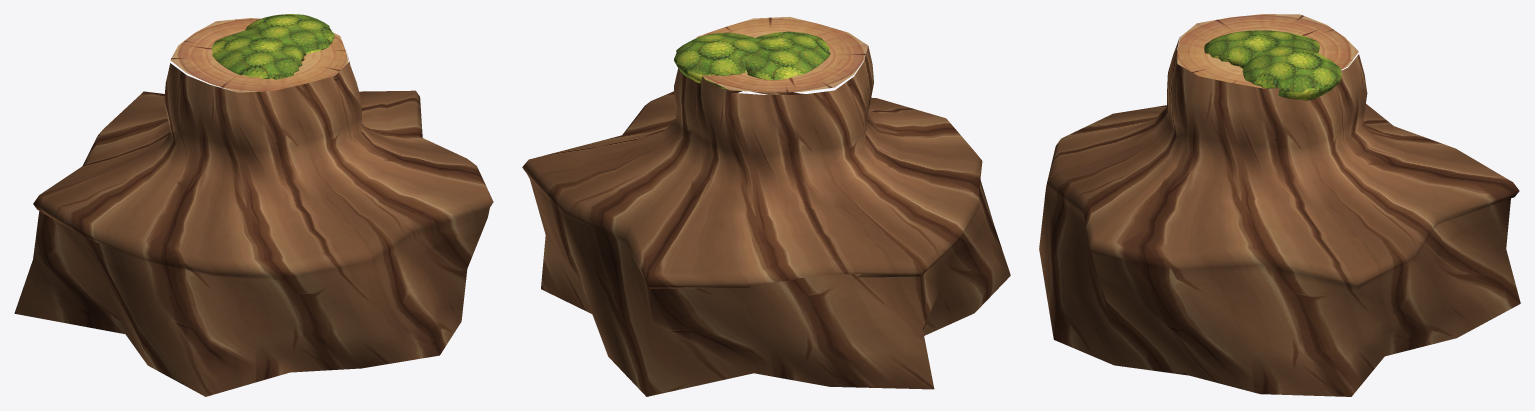
The model's file is mossy_stump1_s31831.gltf.
3 renders of one model, left to right at view 1: azimuth 30°, elevation 25°; view 2: azimuth 150°, elevation 25°; view 3: azimuth 270°, elevation 25°, orthographic. The views are drawn at different scales.
Parts seen in each view (by area): view 1: mossy_stump1_s31831_bark_LOD0, mossy_stump1_s31831_moss_LOD0, mossy_stump1_s31831_cap_LOD0; view 2: mossy_stump1_s31831_bark_LOD0, mossy_stump1_s31831_moss_LOD0, mossy_stump1_s31831_cap_LOD0; view 3: mossy_stump1_s31831_bark_LOD0, mossy_stump1_s31831_moss_LOD0, mossy_stump1_s31831_cap_LOD0.
Part boxes in pixels (x1,y1,x2,y2): mossy_stump1_s31831_bark_LOD0: (14, 54, 493, 396); mossy_stump1_s31831_moss_LOD0: (211, 14, 334, 79); mossy_stump1_s31831_cap_LOD0: (170, 18, 348, 92); mossy_stump1_s31831_bark_LOD0: (522, 46, 1010, 396); mossy_stump1_s31831_moss_LOD0: (674, 31, 830, 89); mossy_stump1_s31831_cap_LOD0: (696, 17, 868, 92); mossy_stump1_s31831_bark_LOD0: (1039, 37, 1520, 396); mossy_stump1_s31831_moss_LOD0: (1204, 30, 1341, 100); mossy_stump1_s31831_cap_LOD0: (1177, 14, 1358, 88).
Size of what is drawn, in the model's own units: 1.39 by 0.841 by 1.39.
Materials: 3 (3 with a texture image).
